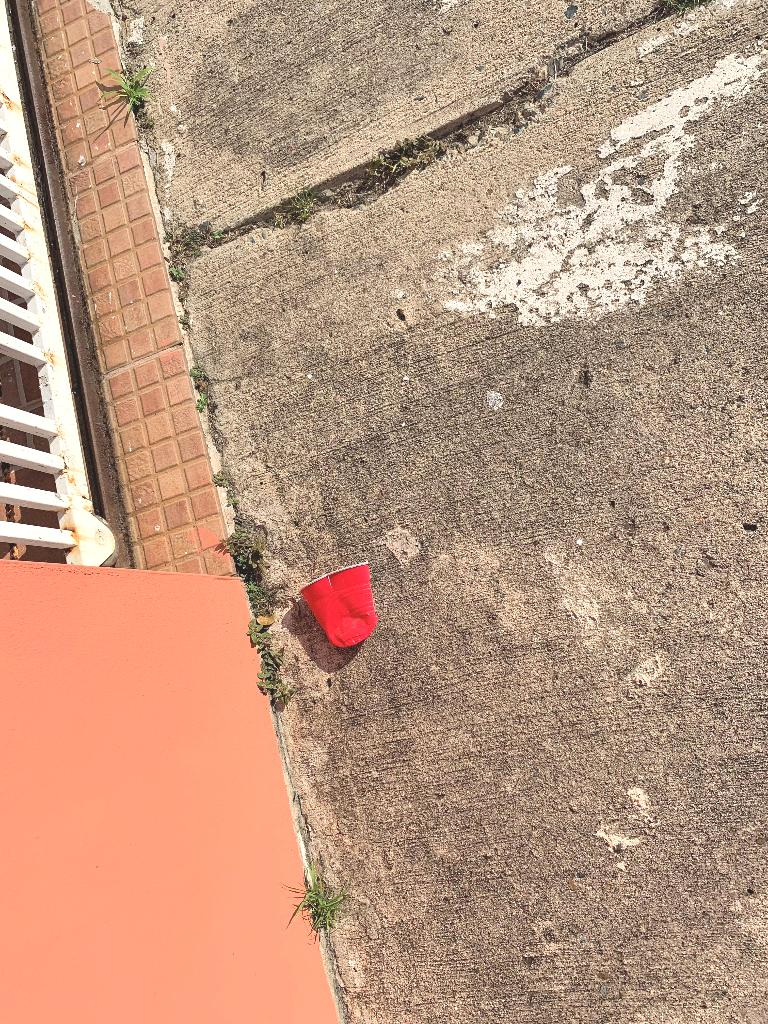garbage: (285, 531, 383, 675), (302, 563, 378, 647)
